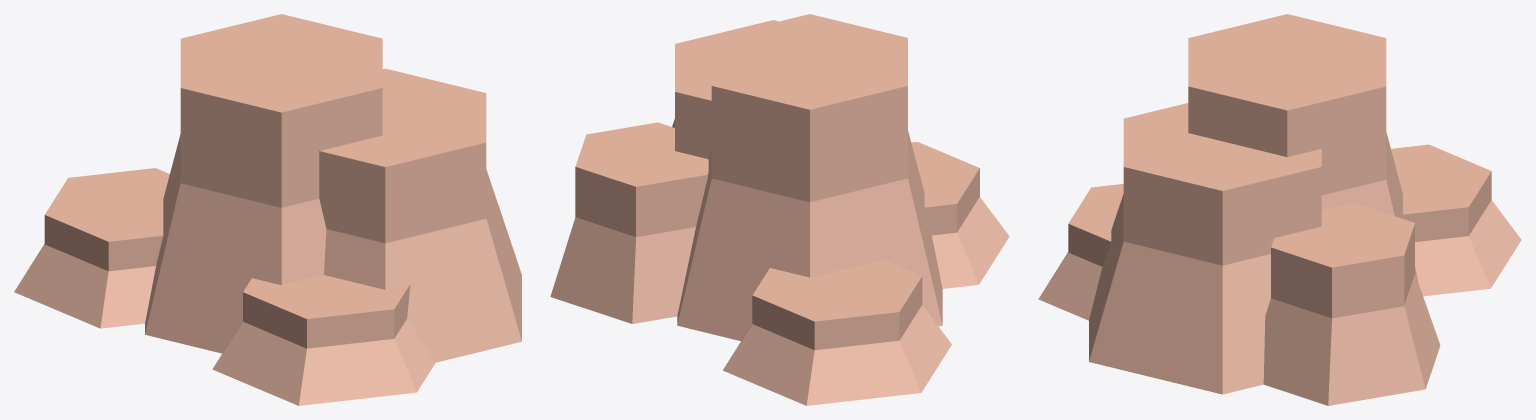
Rendered from rock_largeB.glb.
3 views of the same model, side by side, from view 1: azimuth 30°, elevation 25°; view 2: azimuth 150°, elevation 25°; view 3: azimuth 270°, elevation 25° (orthographic). The views are drawn at different scales.
Visible parts, largest first — view 1: rock_largeB; view 2: rock_largeB; view 3: rock_largeB.
Part boxes in pixels (x1,y1,x2,y2): rock_largeB: (14,14,521,405); rock_largeB: (550,14,1009,405); rock_largeB: (1038,14,1521,405).
Size of the model in its own units: 0.9278 by 0.5 by 0.9393.
